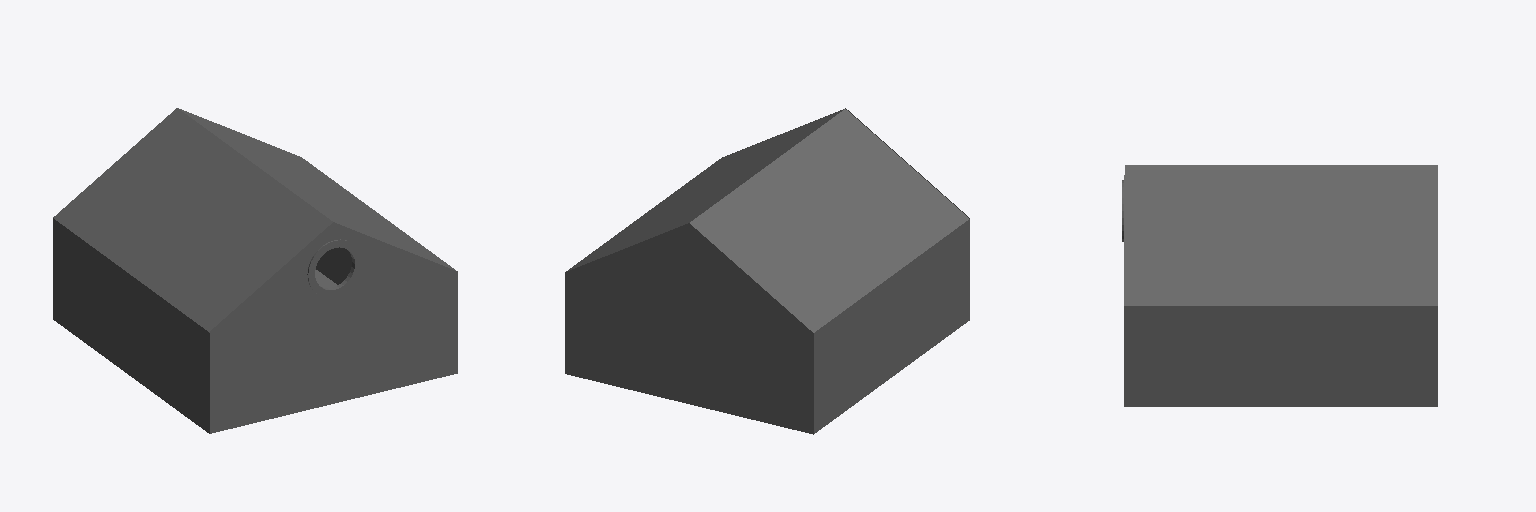
Rendered from House.obj.
3 views of the same model, side by side, from view 1: azimuth 30°, elevation 25°; view 2: azimuth 150°, elevation 25°; view 3: azimuth 270°, elevation 25° (orthographic).
Visible parts, largest first — view 1: Box001; view 2: Box001; view 3: Box001.
Boxes of the visible parts, box(x1,y1,x2,y2) form: Box001: box(53, 108, 457, 433); Box001: box(565, 108, 969, 434); Box001: box(1122, 165, 1437, 406).
Bounding box in the file's own units: 768 × 534 × 842.